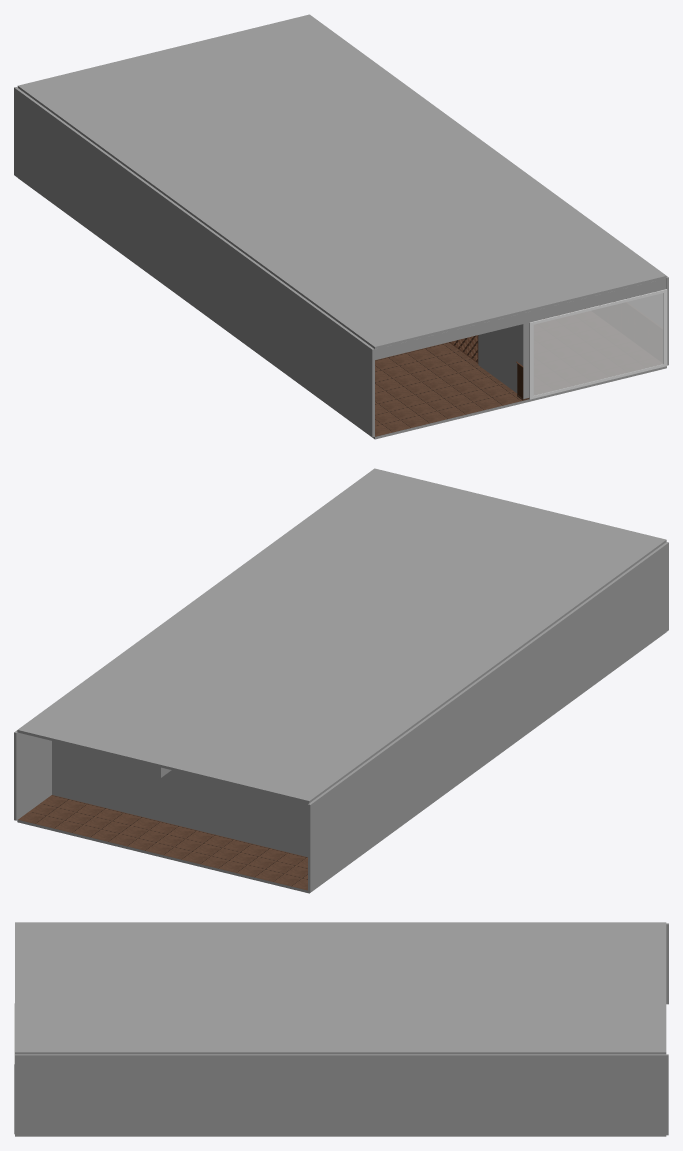
File: shopV1.fbx
3 renders of one model, top to bottom at view 1: azimuth 30°, elevation 25°; view 2: azimuth 150°, elevation 25°; view 3: azimuth 270°, elevation 25°, orthographic. The views are drawn at different scales.
Visible parts, largest first — view 1: Ceiling, LeftWall, EnterGlass, Floor, Column, DeskBackWall; view 2: Ceiling, LeftWall, BackWall, Floor, RightWall; view 3: Ceiling, RightWall, Floor.
Part boxes in pixels (<box>): Ceiling: <box>17,14,666,349</box>; LeftWall: <box>14,87,374,437</box>; EnterGlass: <box>529,289,667,399</box>; Floor: <box>18,178,666,439</box>; Column: <box>375,278,666,400</box>; DeskBackWall: <box>478,325,517,393</box>; Ceiling: <box>17,468,666,803</box>; LeftWall: <box>308,542,668,892</box>; BackWall: <box>52,741,308,857</box>; Floor: <box>17,632,666,893</box>; RightWall: <box>14,730,51,820</box>; Ceiling: <box>15,922,666,1054</box>; RightWall: <box>15,1054,668,1135</box>; Floor: <box>15,1135,666,1136</box>.
Bounding box in the file's own units: 4362 × 1300 × 9148.
6 materials, 2 textured.
